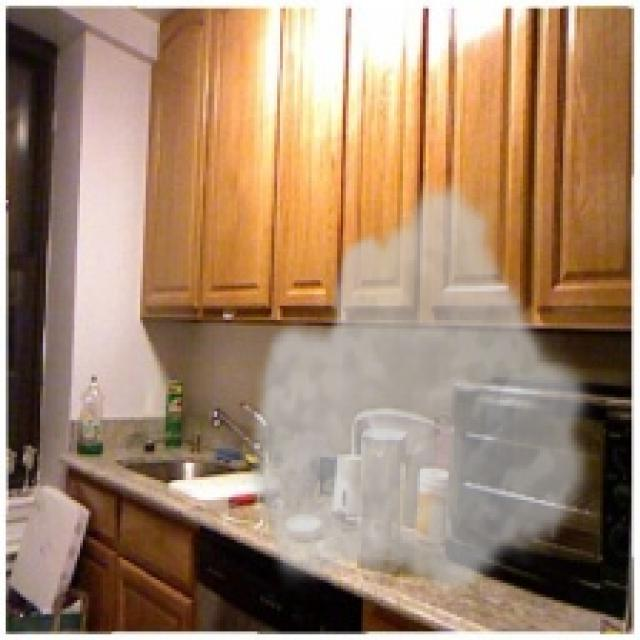smoke: (243, 174, 600, 597)
